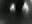person: (22, 3, 31, 17), (11, 3, 16, 14)
